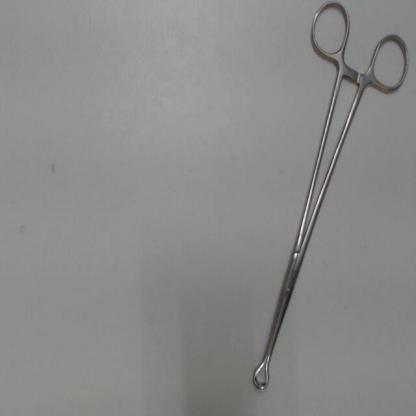8 Babcock Tissue Forceps: (246, 1, 413, 398)
